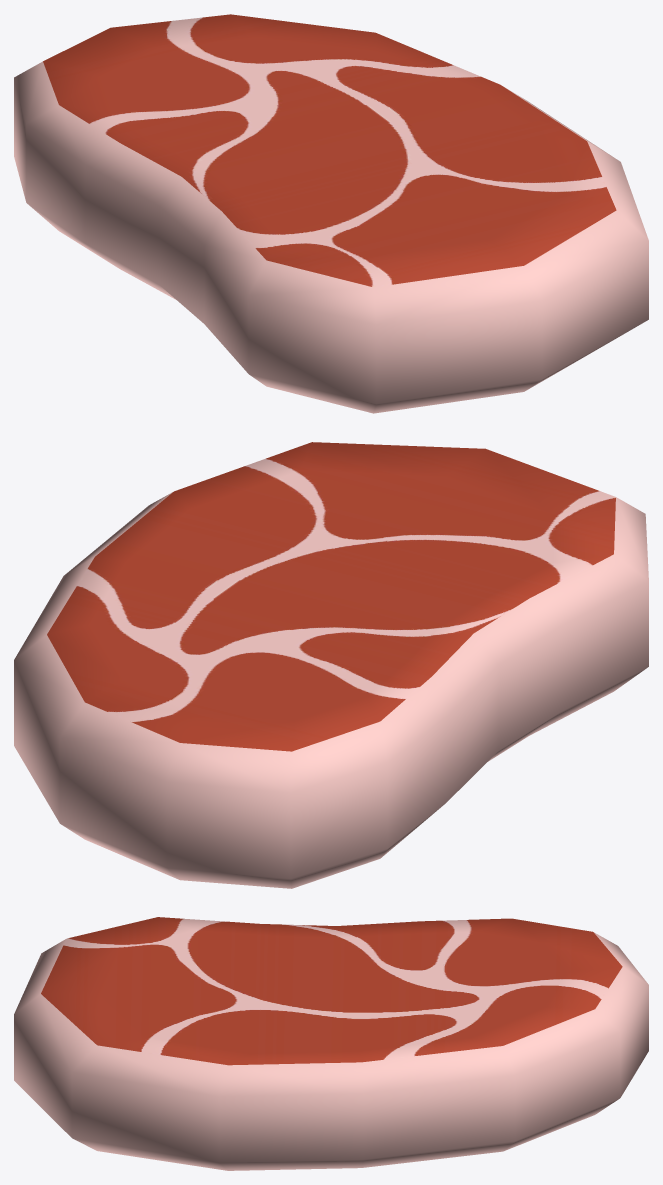
File: meat.obj
The picture shows the model from 3 angles, top to bottom: view 1: azimuth 30°, elevation 25°; view 2: azimuth 150°, elevation 25°; view 3: azimuth 270°, elevation 25°; orthographic projection. The views are drawn at different scales.
Parts seen in each view (by area): view 1: RawMeat1; view 2: RawMeat1; view 3: RawMeat1.
Boxes of the visible parts, x1,y1,x2,y2 form: RawMeat1: [14, 14, 648, 413]; RawMeat1: [14, 442, 648, 888]; RawMeat1: [14, 917, 648, 1170].
Size of the model in its own units: 1.37 by 0.3981 by 2.17.
Materials: 1 (1 with a texture image).
